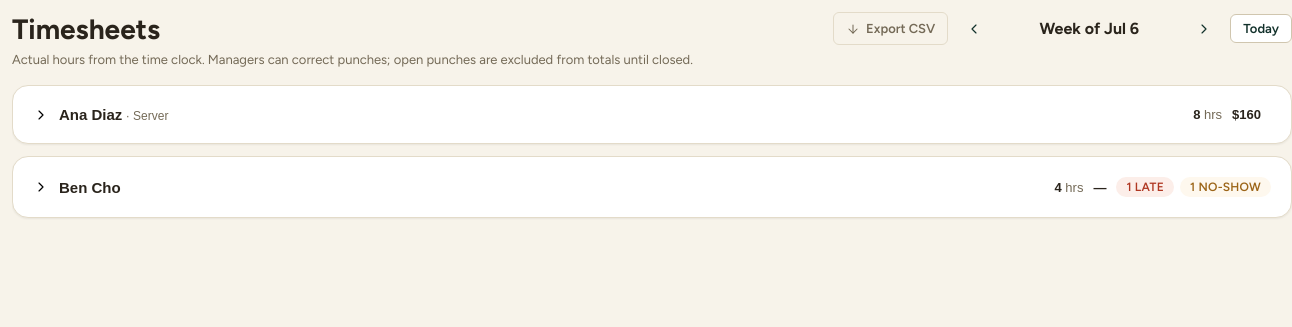
it: TimesheetsView › renders punch times in the location timezone, not the test runner's TZ
Click the text "Ana Diaz" at (91, 114), box [59, 106, 122, 123]
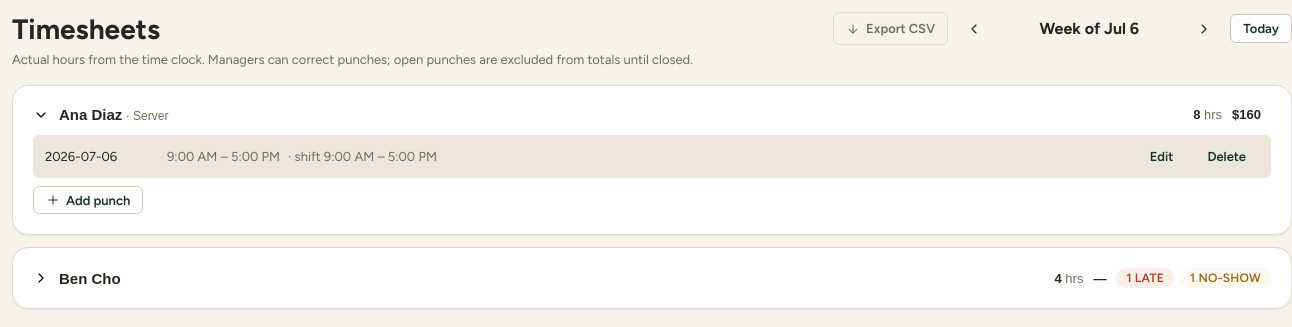
Expected: the text "9:00 AM – 5:00 PM · shift 9:00 AM – 5:00 PM" is shown, [167, 149, 437, 164]
